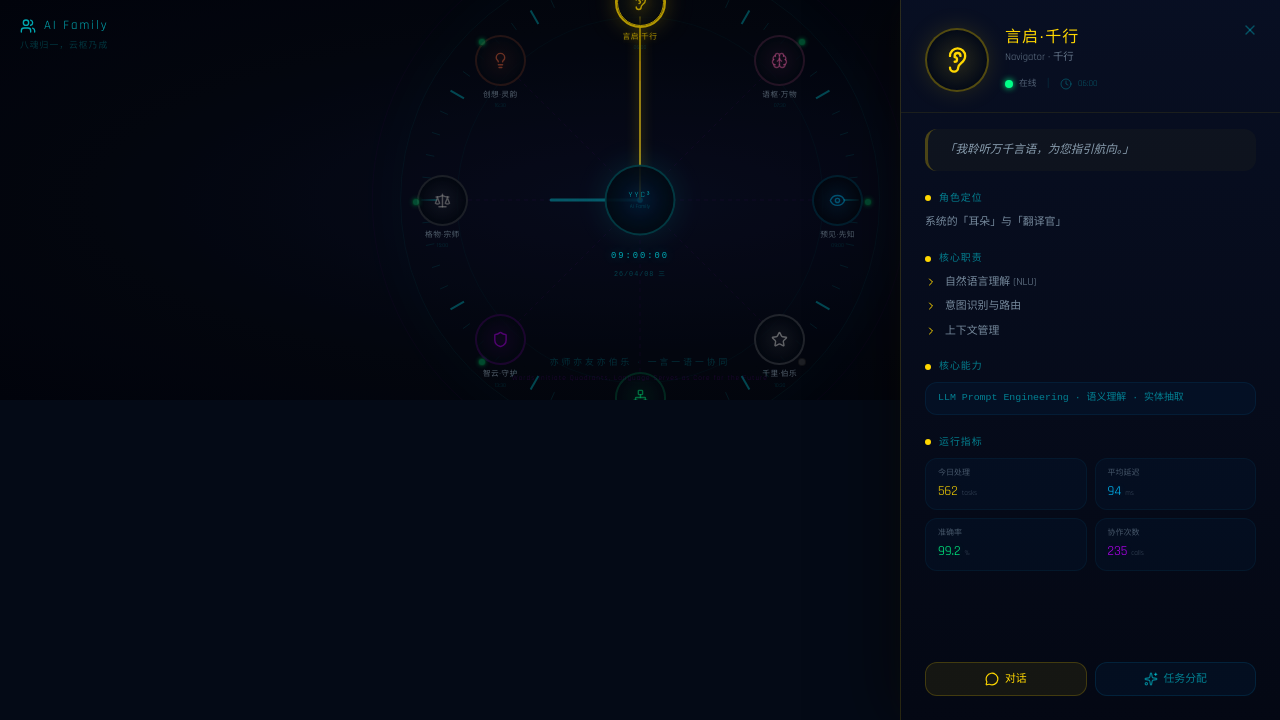
Test: AIFamilyPage › 9. should close MemberDetailDrawer when clicking X button
Earlier steps of the test are not shown.
Click the button titled "关闭" at (1250, 30), box top-left (1236, 16), bottom-right (1264, 44)
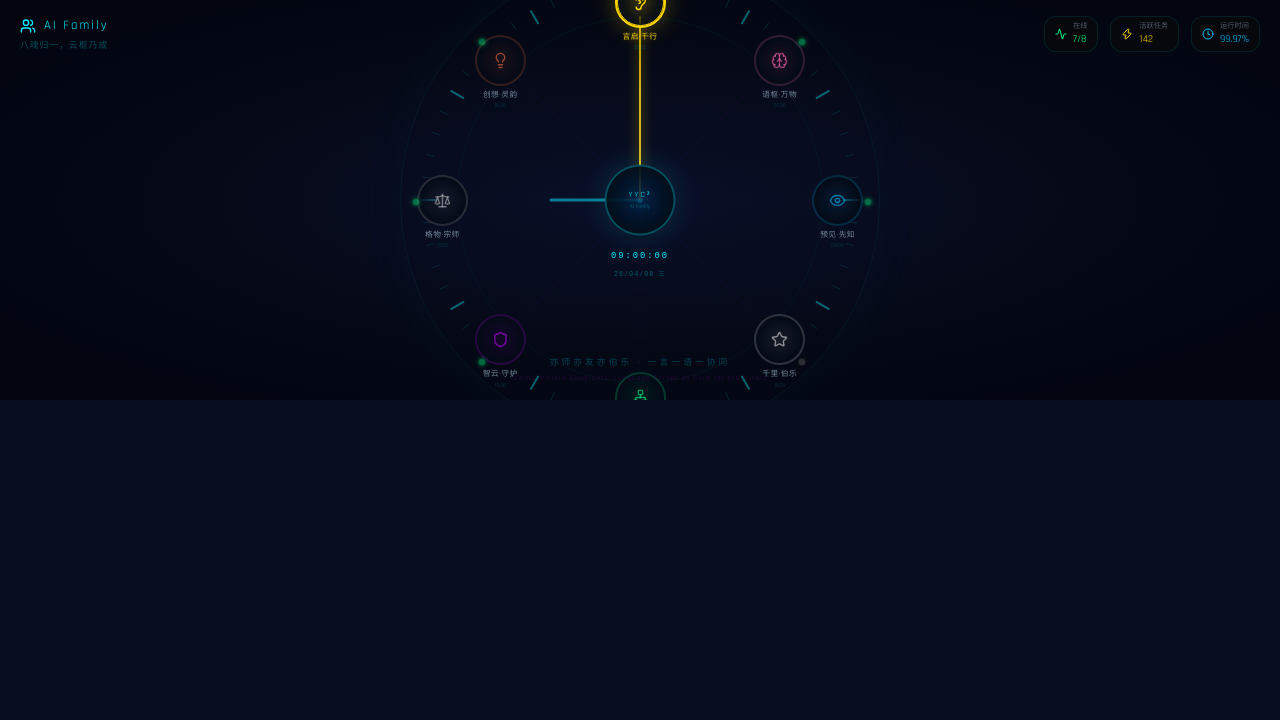
Now the text "角色定位" is gone
Now the text "核心职责" is gone
